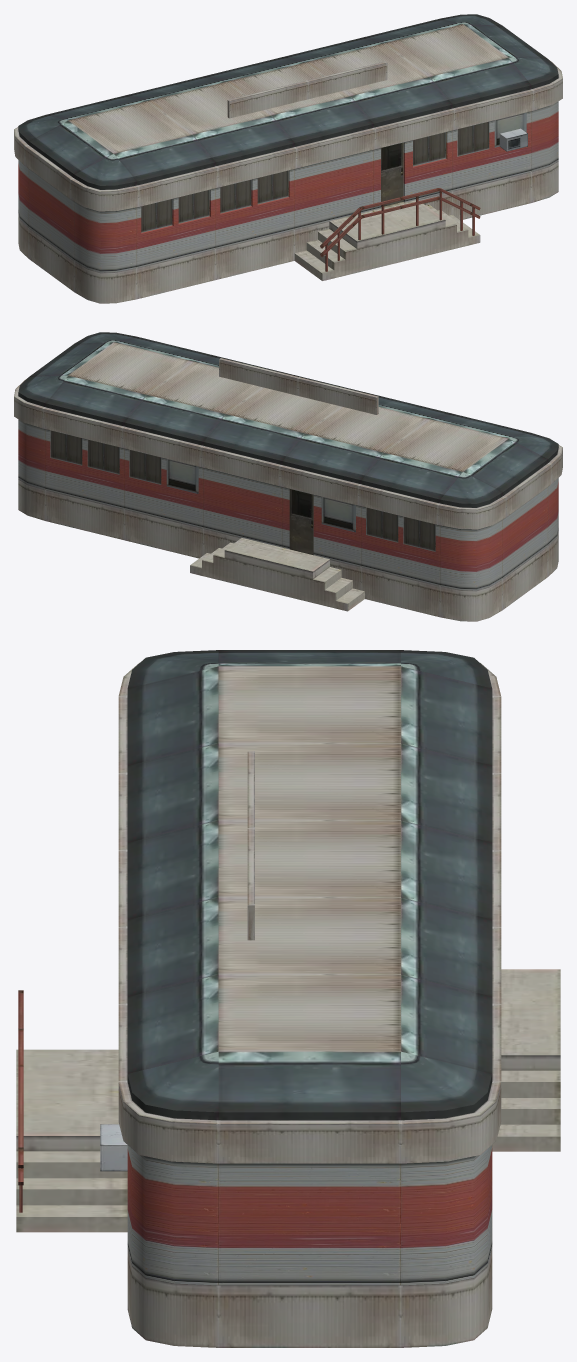
Rendered from rural-diner.lod0.glb.
The picture shows the model from 3 angles, top to bottom: view 1: azimuth 30°, elevation 25°; view 2: azimuth 150°, elevation 25°; view 3: azimuth 270°, elevation 25°; orthographic projection. The views are drawn at different scales.
Parts seen in each view (by area): view 1: Rural_Diner_1_Rural_Facade_FLR_2_0, Rural_Diner_1_Rural_Trailer_Stuff_1_0; view 2: Rural_Diner_1_Rural_Facade_FLR_2_0, Rural_Diner_1_Rural_Trailer_Stuff_1_0; view 3: Rural_Diner_1_Rural_Facade_FLR_2_0, Rural_Diner_1_Rural_Trailer_Stuff_1_0.
Part boxes in pixels (x1,y1,x2,y2): Rural_Diner_1_Rural_Facade_FLR_2_0: (14,14,562,303); Rural_Diner_1_Rural_Trailer_Stuff_1_0: (18,101,558,272); Rural_Diner_1_Rural_Facade_FLR_2_0: (14,332,562,621); Rural_Diner_1_Rural_Trailer_Stuff_1_0: (18,419,558,590); Rural_Diner_1_Rural_Facade_FLR_2_0: (16,650,560,1347); Rural_Diner_1_Rural_Trailer_Stuff_1_0: (127,1145,492,1285).
Size of the model in its own units: 18.3 by 5.31 by 8.96.
2 materials, 2 textured.
